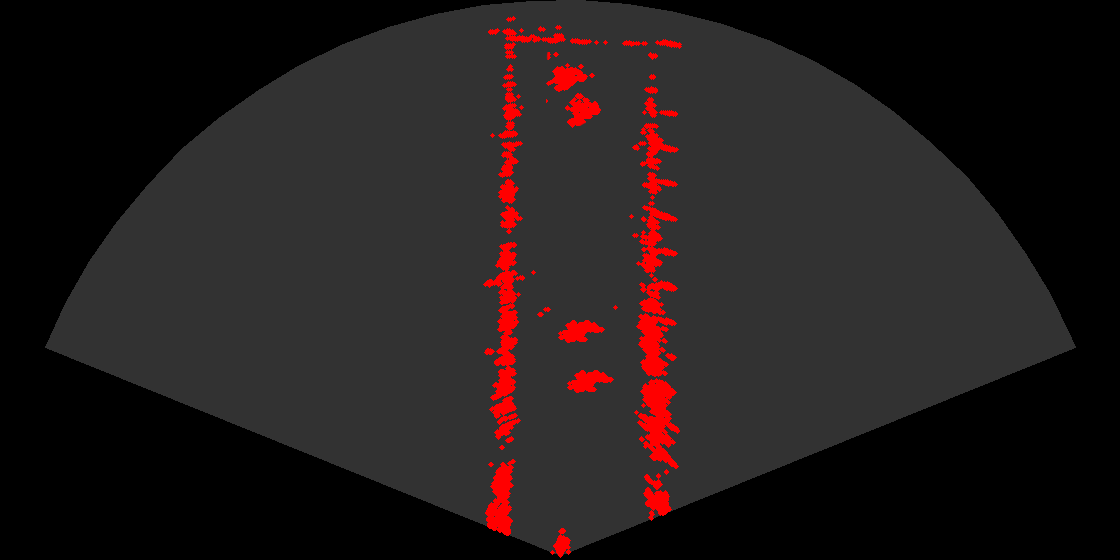AUV: (561, 368, 617, 400), (552, 318, 608, 350)
cage: (546, 52, 609, 136)
